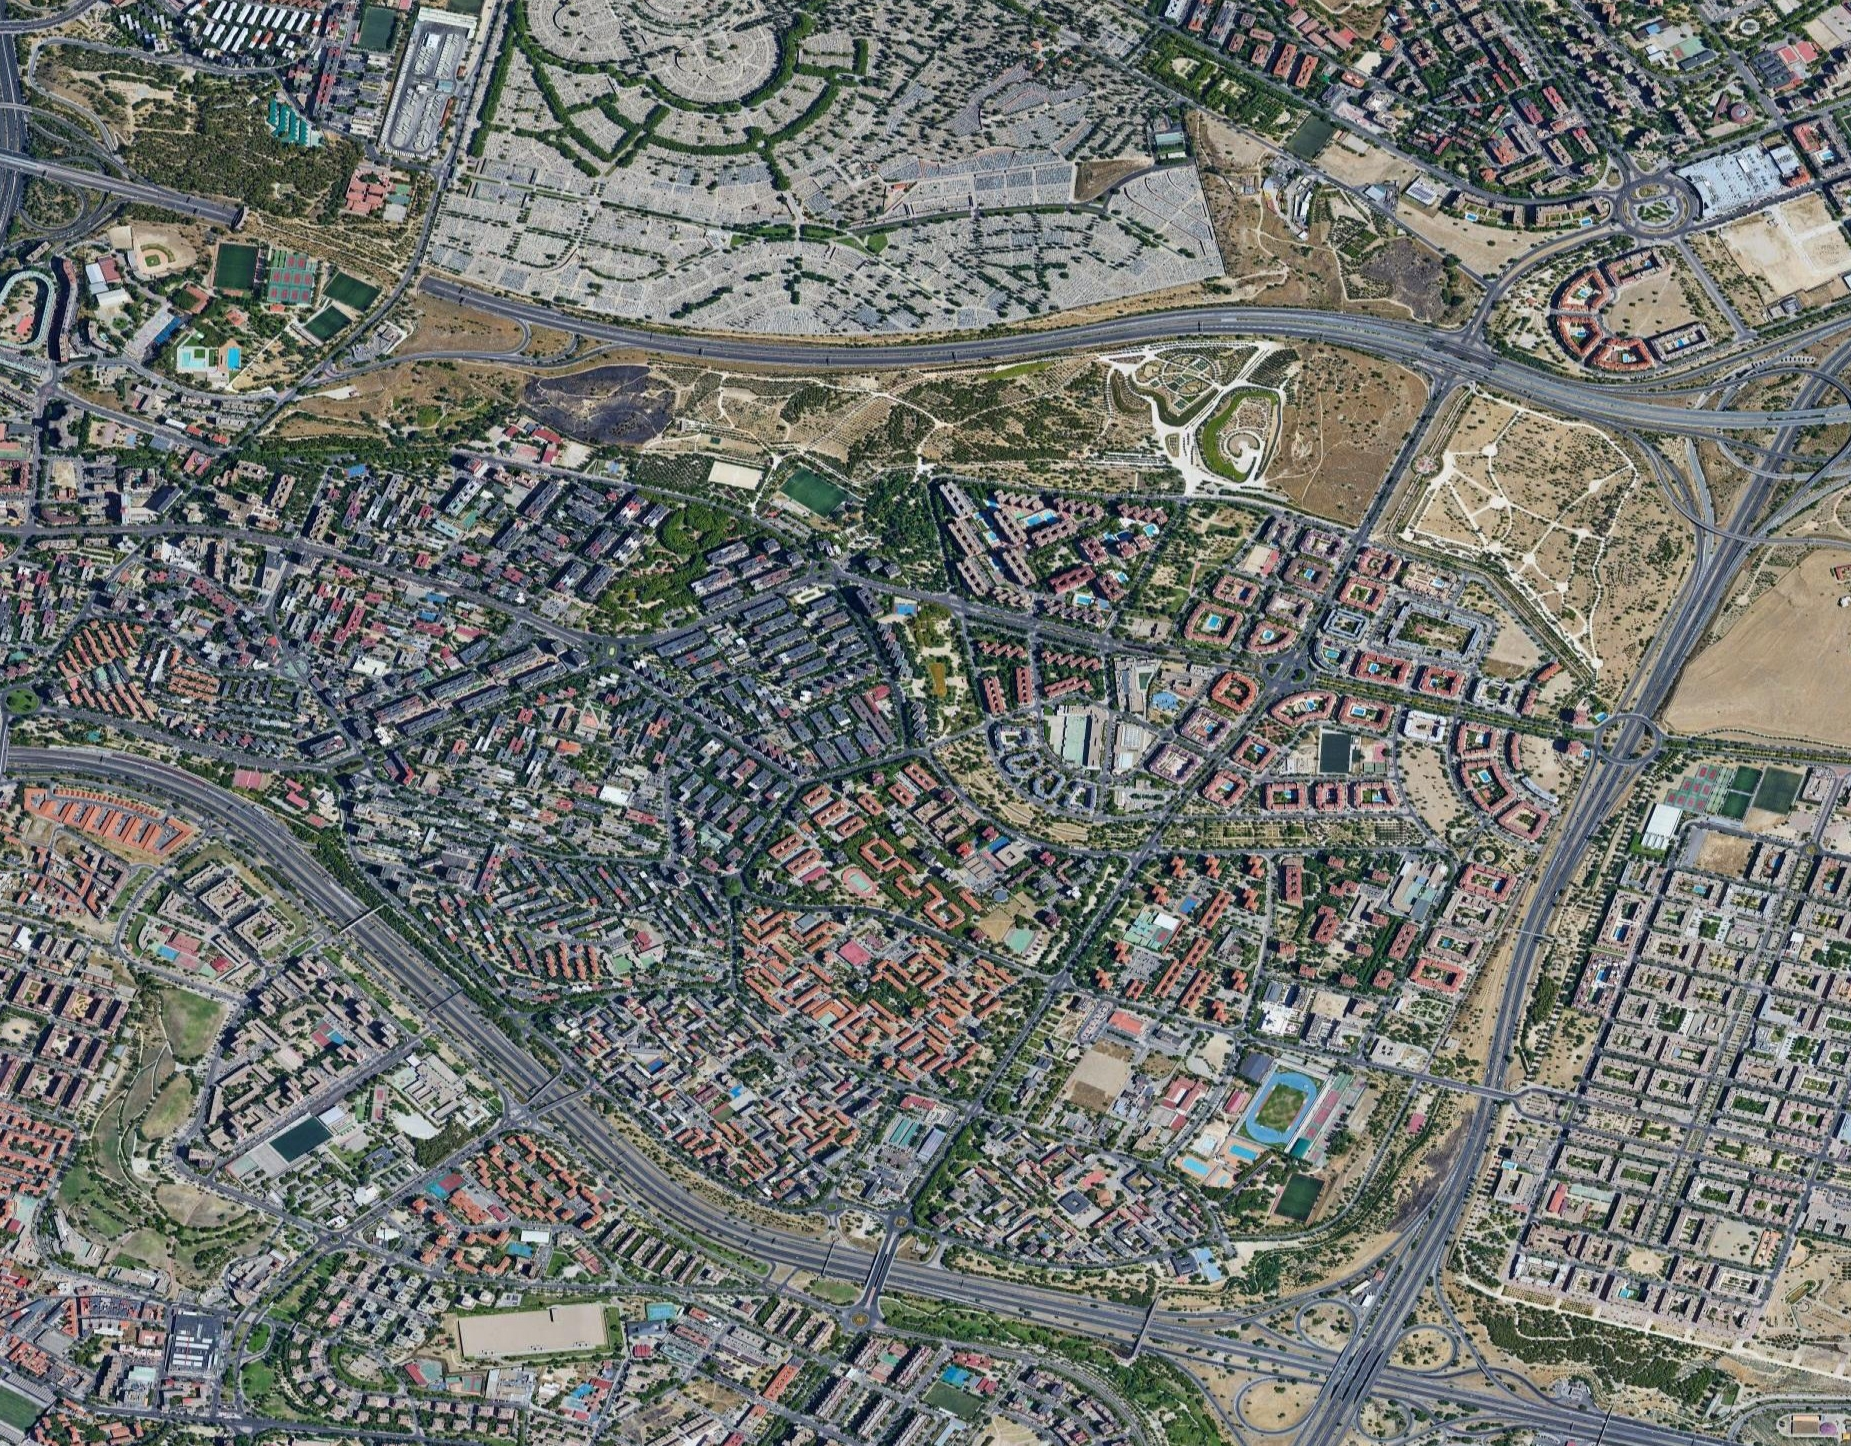bridge: (1309, 1315, 1399, 1420), (838, 1215, 916, 1314), (1720, 389, 1840, 452), (1447, 1058, 1532, 1126), (518, 1063, 598, 1129)
motorway: (1558, 289, 1851, 860), (509, 1039, 868, 1317), (868, 1213, 1283, 1399), (270, 861, 578, 1085), (2, 685, 308, 909), (1262, 1314, 1744, 1446), (1172, 284, 1557, 421), (787, 271, 1172, 407), (406, 262, 790, 398), (1432, 834, 1582, 1178), (2, 119, 243, 244), (1363, 1186, 1472, 1317)
